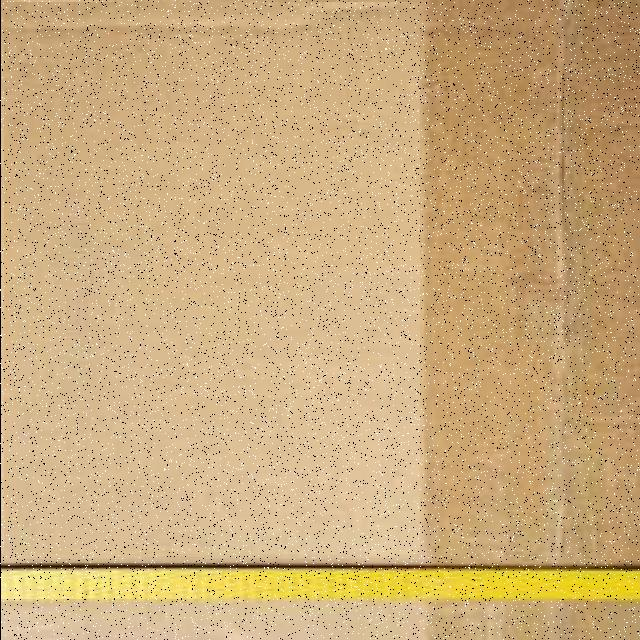normal: (3, 2, 419, 558)
